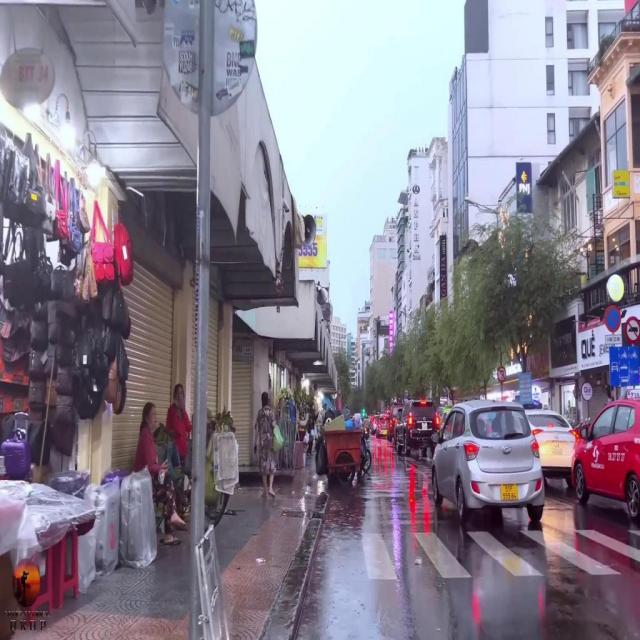cam_do_xe: (605, 304, 620, 332)
cam_o_to_re_trai: (498, 367, 507, 381)
cam_o_to_tai_trong_luong_qua_10t: (625, 316, 640, 342)
khac: (610, 348, 638, 384), (607, 335, 622, 343)
